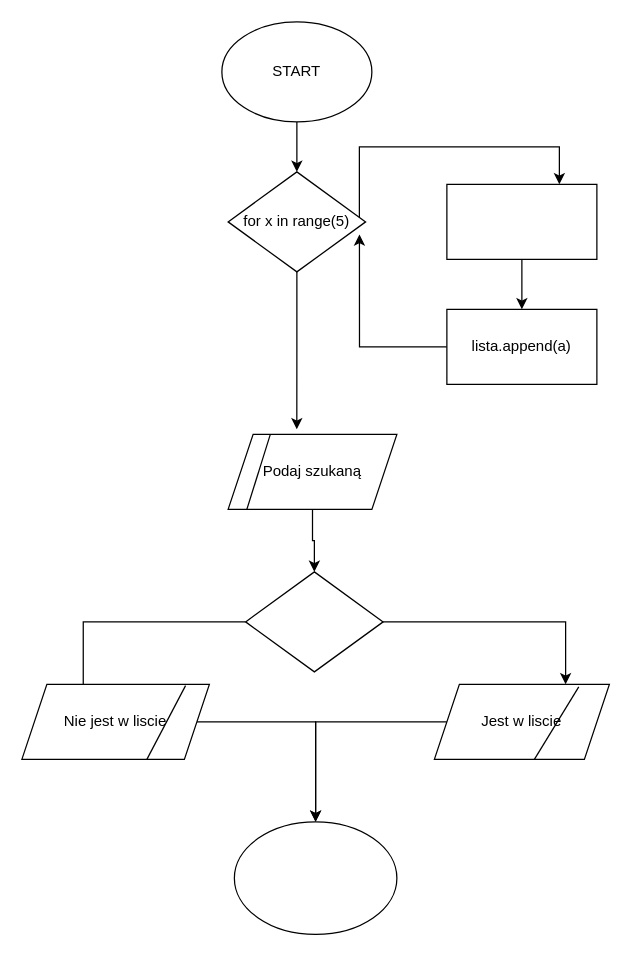
This 631x956 diagram has some shape labels left out. Each missing label, with the centre of its shape:
a = int(input("Podaj liczby:): (x=521, y=221)
if szukana in lista: (x=313, y=621)
KONIEC: (x=315, y=877)
